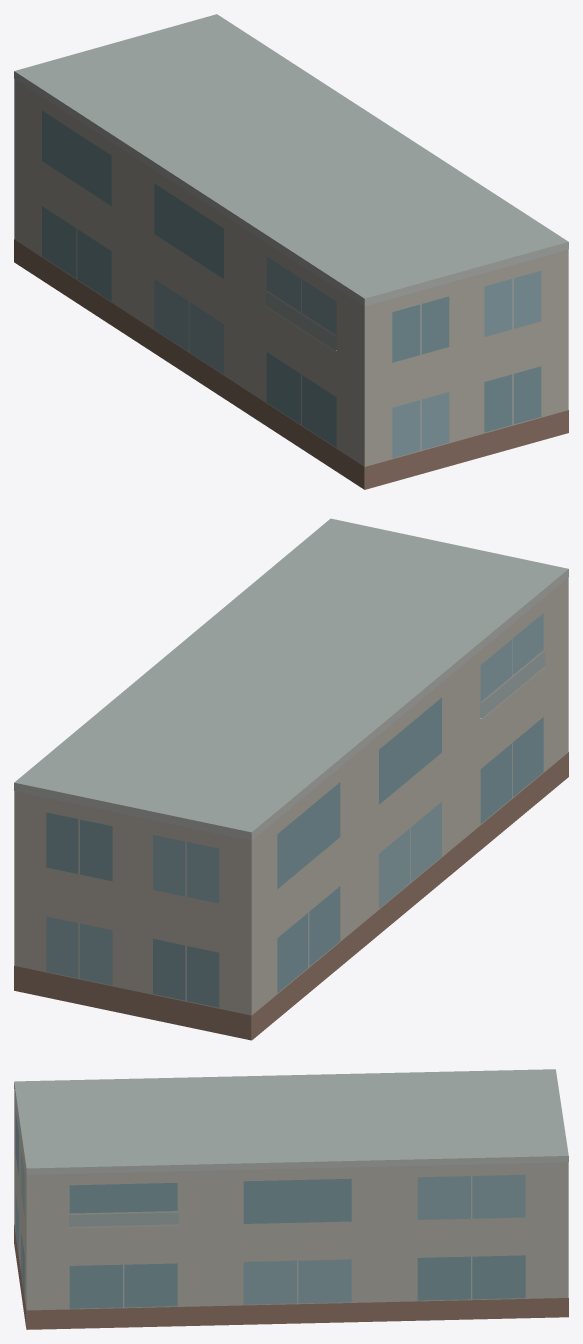
The model's file is survey-upis-32563879.glb.
3 views of the same model, one above another, from view 1: azimuth 30°, elevation 25°; view 2: azimuth 150°, elevation 25°; view 3: azimuth 270°, elevation 25° (orthographic). The views are drawn at different scales.
Visible parts, largest first — view 1: survey-upis-32563879.tmp; view 2: survey-upis-32563879.tmp; view 3: survey-upis-32563879.tmp.
Boxes of the visible parts, bbox=[...] form: survey-upis-32563879.tmp: bbox=[14, 14, 568, 489]; survey-upis-32563879.tmp: bbox=[14, 518, 568, 1040]; survey-upis-32563879.tmp: bbox=[14, 1069, 568, 1329].
Bounding box in the file's own units: 8.06 × 6.1 × 19.02.
